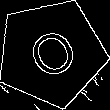O_SE: (19, 21, 83, 86)
